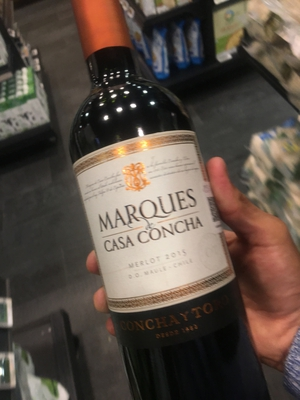marques de casa concha merlot: (66, 32, 248, 362)
